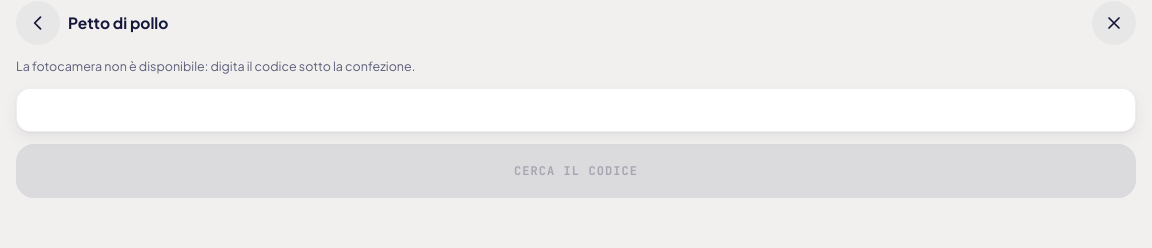
Test case: ScansioneConfezione › senza fotocamera: il messaggio del ripiego, niente USA LA FOTOCAMERA, CERCA IL CODICE spento a vuoto, un codice digitato e Invio arrivano a letto
This screenshot has width=1152, height=248.
expect the text "La fotocamera non è disponibile: digita il codice sotto la confezione." is shown: met, box [16,58,415,74]
expect the button "CERCA IL CODICE" is disabled: met, box [16,144,1136,198]
Type "8076800195057" into the field named "Codice a barre" at (576, 110), box [16,88,1136,132]
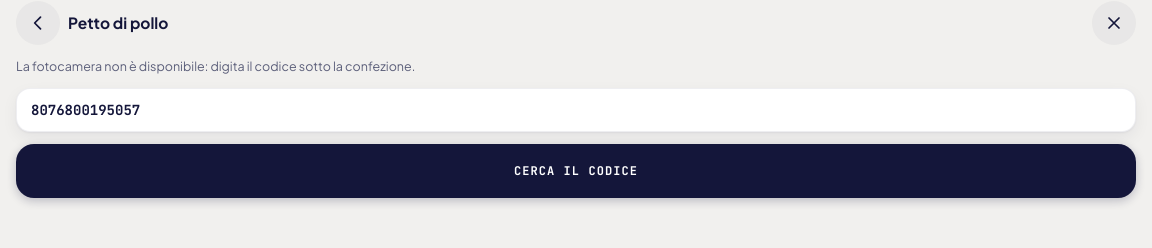
expect the button "CERCA IL CODICE" is enabled: met, box [16,144,1136,198]
Submit the form named "Codice a barre", box [16,57,1136,198]
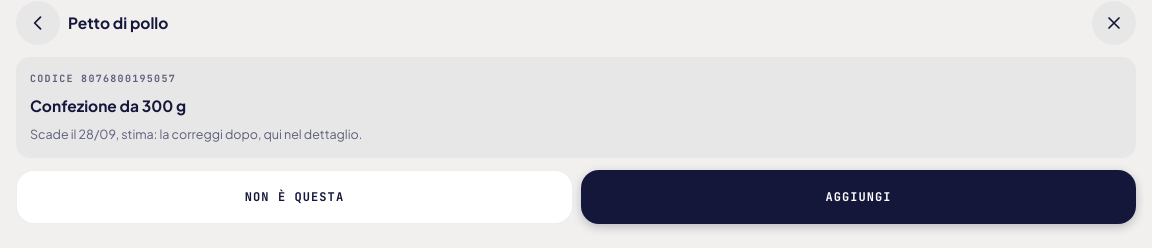
expect the text "Confezione da 300 g" is shown: met, box [30,96,186,115]
